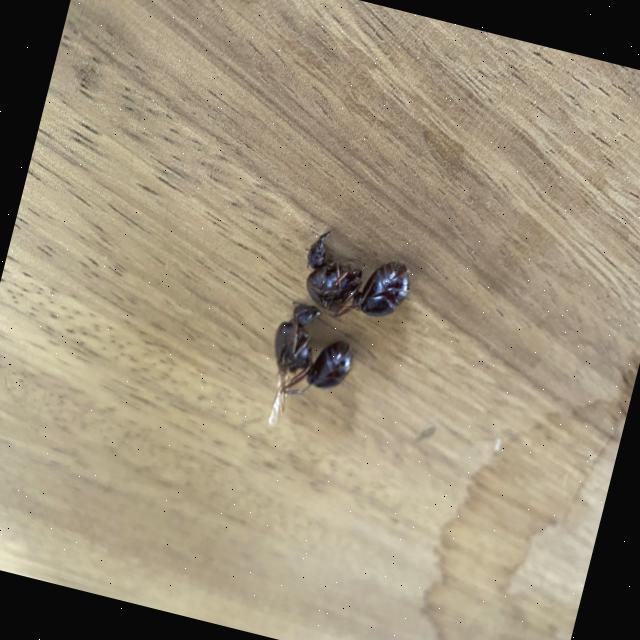Dead-Female-Alate: (252, 297, 364, 444)
Dead-Female-Dealate: (294, 226, 418, 334)
